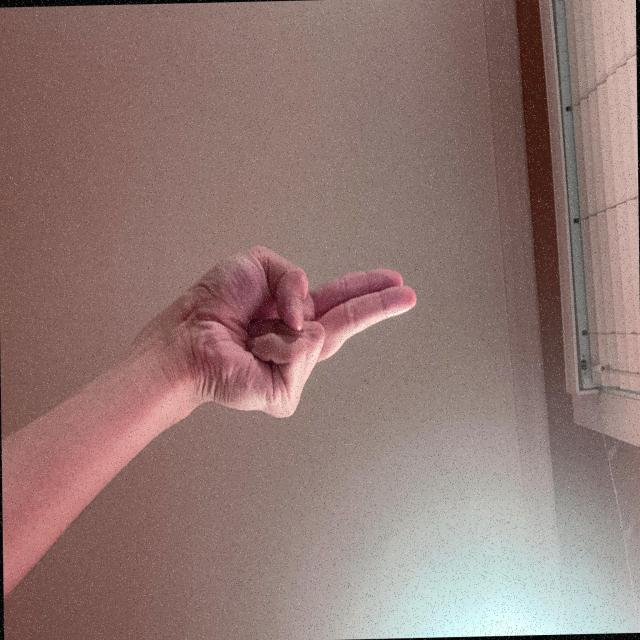U: (335, 284, 484, 640)
